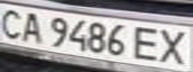4: (66, 17, 90, 52)
6: (106, 21, 133, 57)
8: (84, 19, 109, 55)
9: (42, 15, 72, 48)
A: (18, 9, 48, 44)
C: (0, 6, 27, 39)
E: (130, 24, 166, 63)
X: (154, 26, 193, 66)
